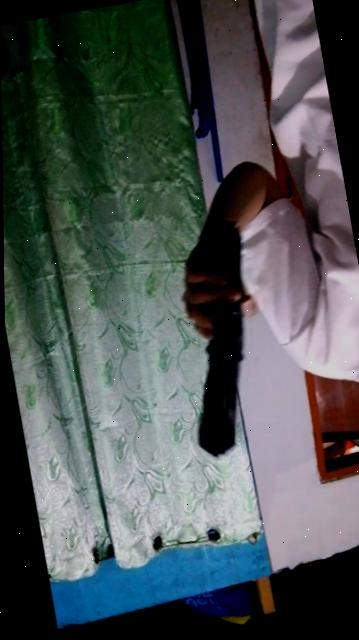pistol: (138, 210, 295, 472)
